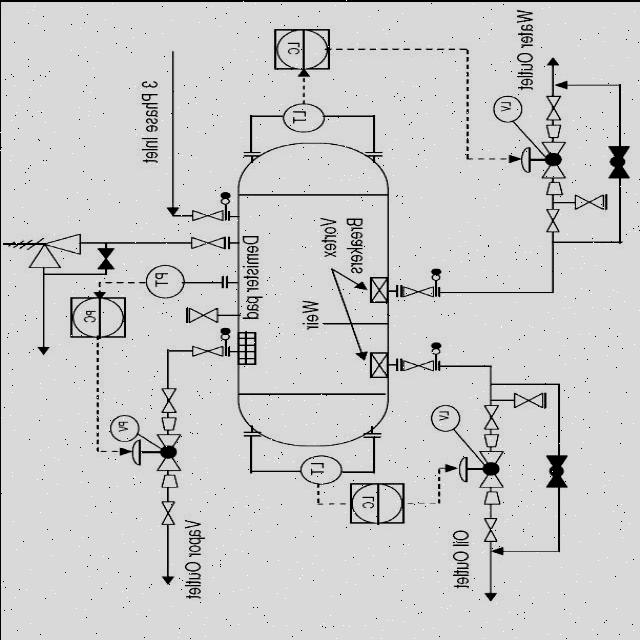Gate Valve: (150, 377, 182, 413), (151, 491, 179, 532), (531, 207, 569, 233), (477, 397, 505, 432), (507, 389, 542, 413), (478, 514, 508, 542), (182, 233, 225, 252), (540, 93, 564, 123), (188, 304, 226, 322), (184, 208, 223, 221)
PSV: (0, 216, 92, 270)
Pneumatic-Diaphragm Globe Valve: (455, 446, 505, 492), (514, 140, 568, 178), (126, 434, 182, 469)
